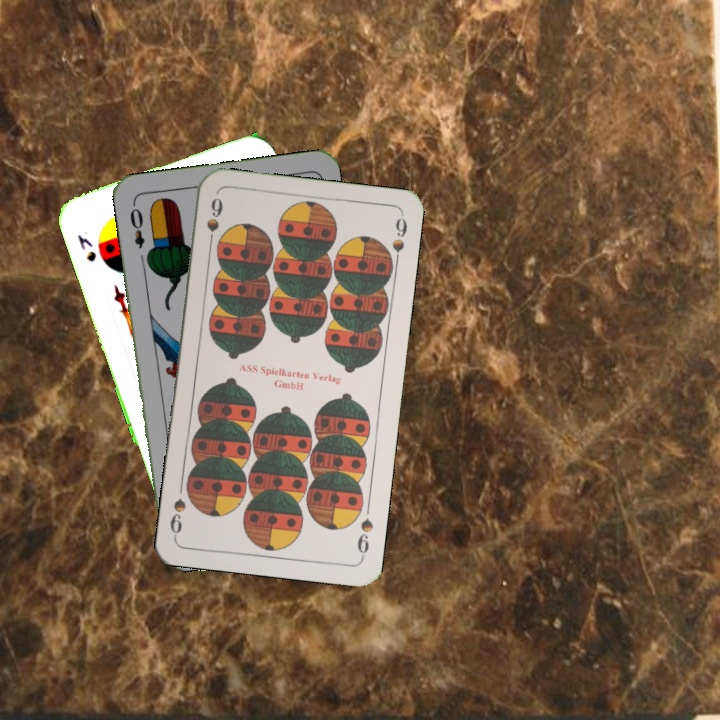EO: (125, 199, 147, 251)
S9: (202, 193, 226, 251), (353, 514, 376, 561)
SK: (73, 230, 99, 265)
